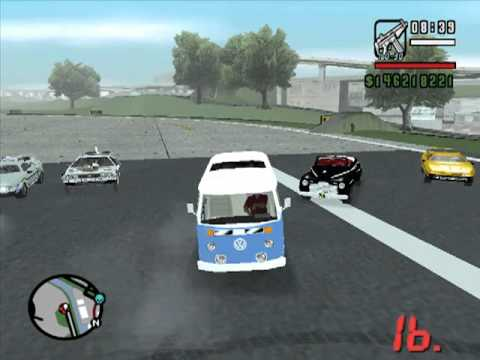car: (197, 156, 291, 276), (300, 154, 361, 204), (63, 152, 122, 191), (421, 148, 478, 187)
